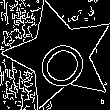O_NE: (26, 22, 94, 89)
